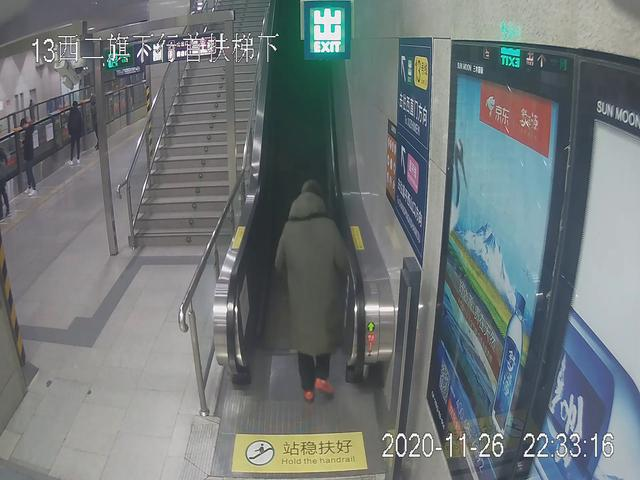person: (275, 179, 355, 401), (14, 119, 44, 200), (64, 99, 84, 168)
